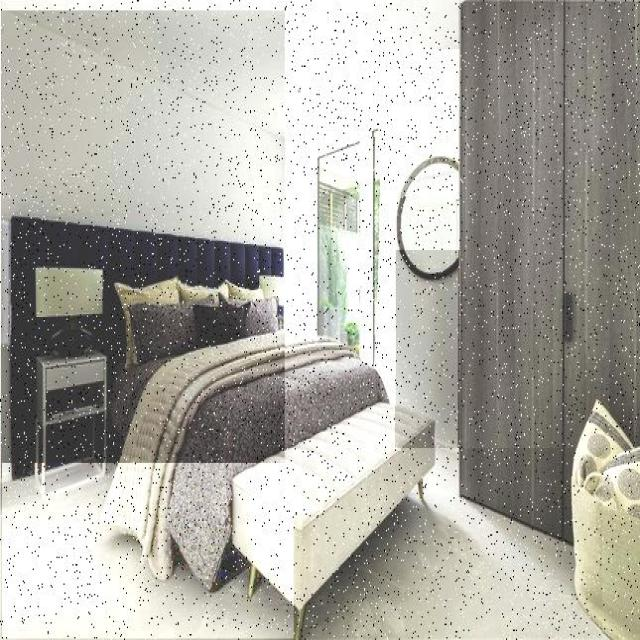Wall: (1, 11, 285, 478), (2, 0, 459, 137), (303, 450, 602, 639), (2, 463, 294, 639), (396, 251, 459, 449), (397, 51, 459, 196), (50, 465, 92, 487)
